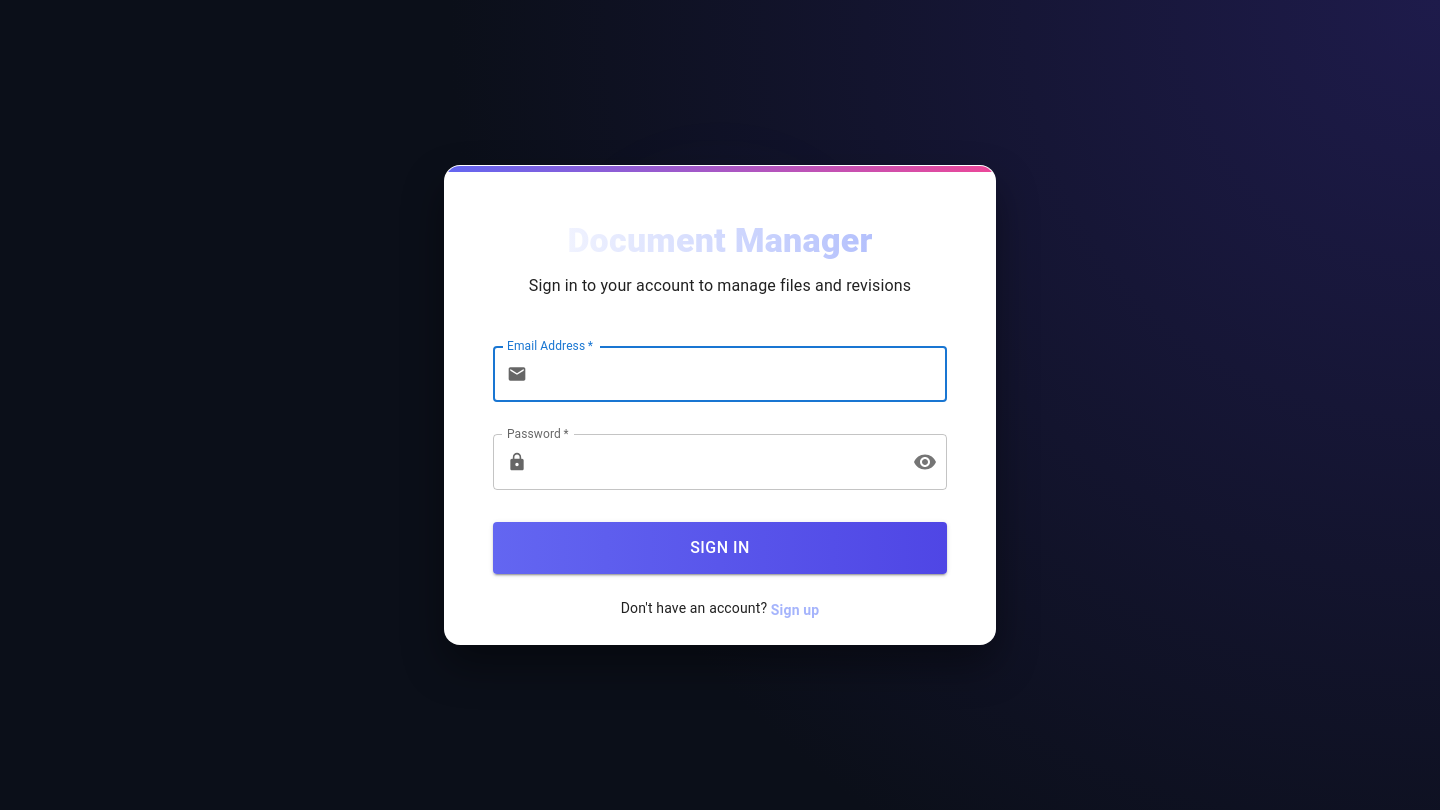
LoginPage › displays generic error when response has no structured data
Type "test@example.com" into the field labelled "Email Address *" at (741, 374), box [535,346,947,402]
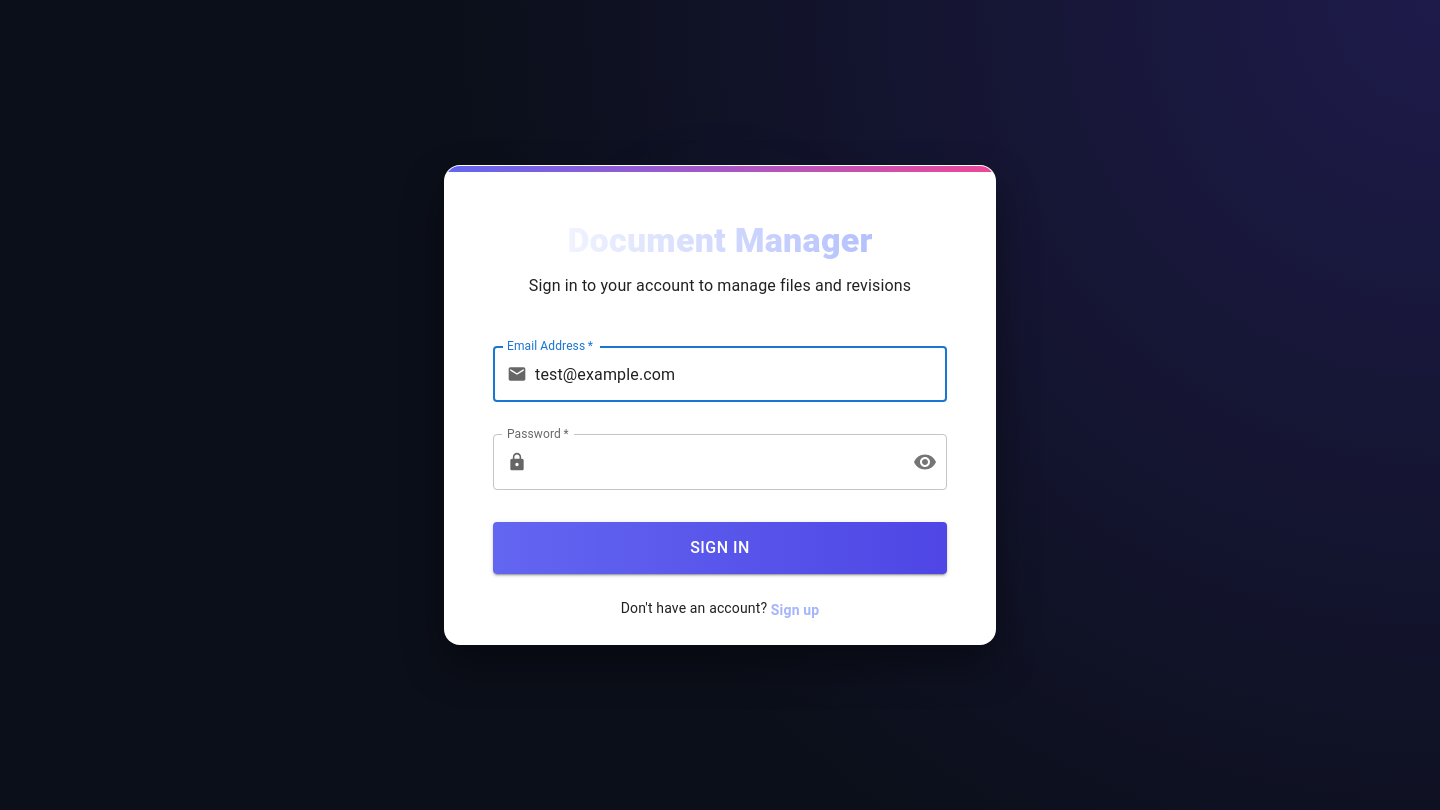
Type "password123" into the password field labelled "Password *" at (716, 462), box [535,434,897,490]
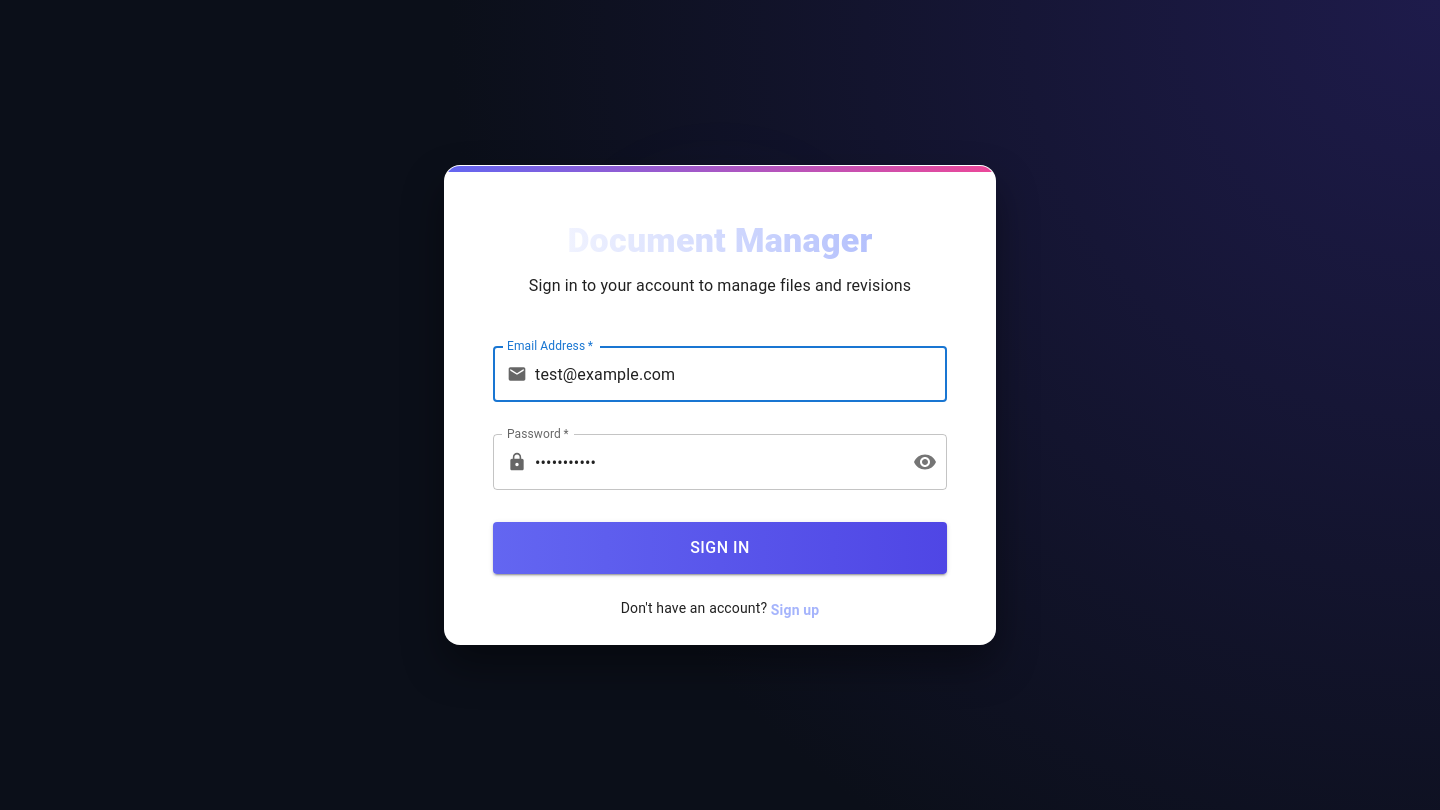
Click the button "Sign In" at (720, 548), box [493,522,947,574]
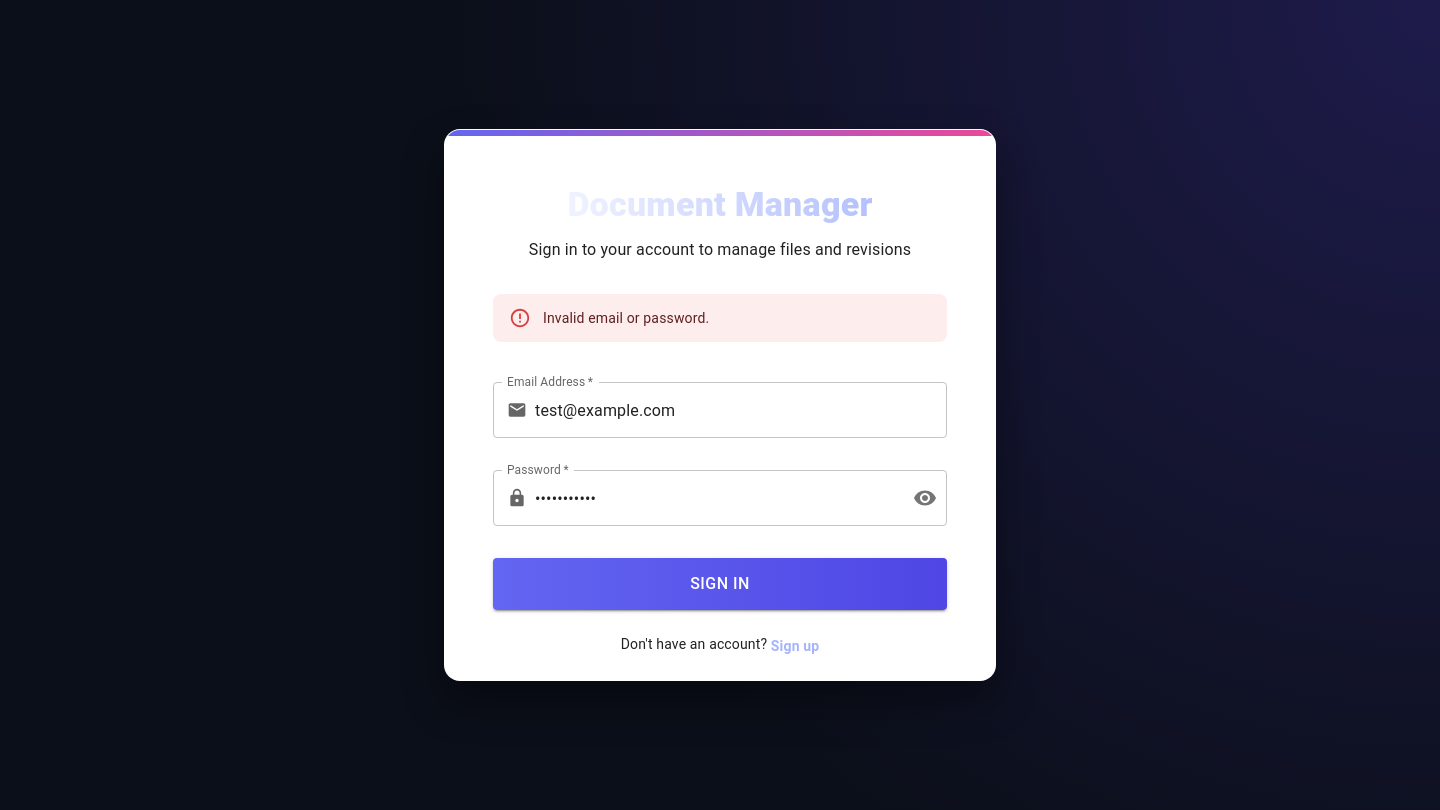
Expected: the text "Invalid email or password." is shown, [543,310,709,326]
